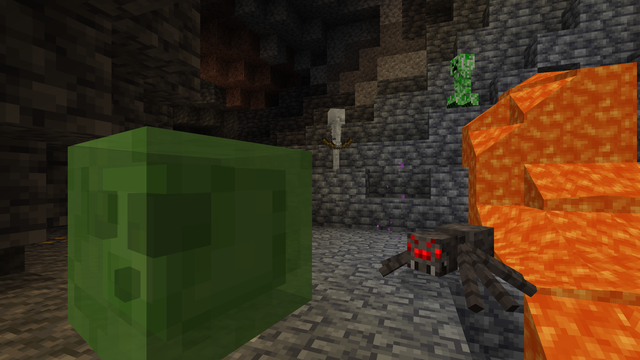araignees: (398, 217, 516, 311)
creepers: (450, 49, 474, 108)
slimes: (38, 116, 308, 355)
squelettes: (325, 107, 346, 168)
